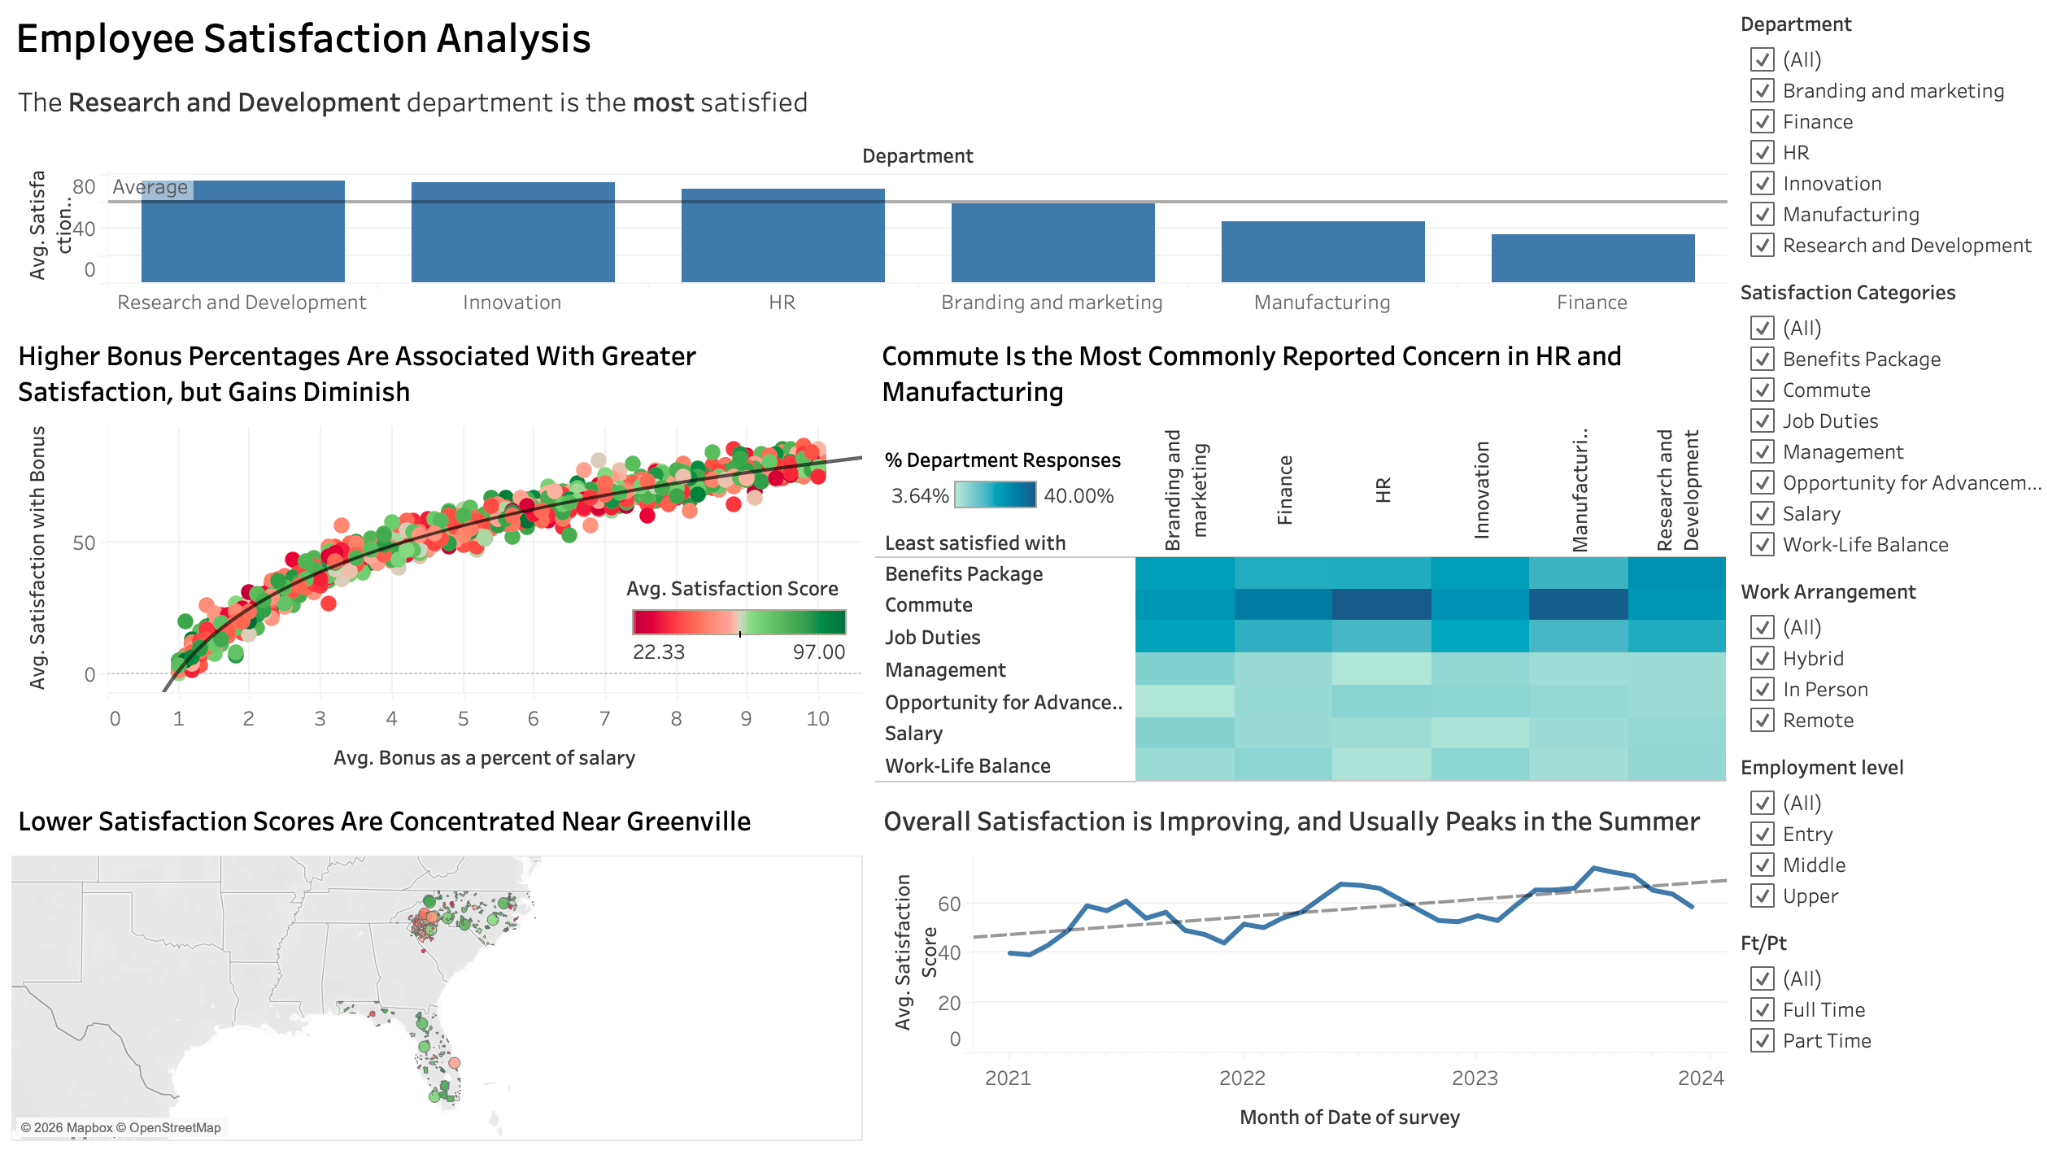

What the dashboard file says about the page in this screenshot:
{"tool":"tableau","page":{"name":"Employee Satisfaction Analysis","canvas":[1280,720],"ordinal":1},"visuals":[{"type":"title","box":[8,8,1063,41]},{"type":"filter","title":"Higher Bonus % Raises Satisfaction, But Returns Diminish Over Time","param":"[federated.0tje9i91w3glhr13yo1ke0m3i0n6].[none:Department:nk]","box":[1071,8,201,165]},{"type":"worksheet","title":"Least Satisfied Employees by Department","mark":"Automatic","rows":["Satisfaction Score"],"cols":["Department"],"box":[8,49,1063,156]},{"type":"filter","title":"Employees Near the Plant Report High Dissatisfaction Across All Areas Except Salary","param":"[federated.0tje9i91w3glhr13yo1ke0m3i0n6].[none:Least satisfied with:nk]","box":[1071,173,201,184]},{"type":"worksheet","title":"Higher Bonus % Raises Satisfaction, But Returns Diminish Over Time","mark":"Automatic","rows":["Satisfaction with Bonus"],"cols":["Bonus as a percent of salary"],"box":[8,205,531.5,286]},{"type":"worksheet","title":"The Manufacturing department is least satisfied with their commute","mark":"Automatic","rows":["Least satisfied with"],"cols":["Department"],"box":[539,205,532,286]},{"type":"legend","title":"The Manufacturing department is least satisfied with their commute","param":"[federated.0tje9i91w3glhr13yo1ke0m3i0n6].[pcto:cnt:Satisfaction_08B08D57A3D94CD6","box":[549,280,146,49]},{"type":"filter","title":"Employees Near the Plant Report High Dissatisfaction Across All Areas Except Salary","param":"[federated.0tje9i91w3glhr13yo1ke0m3i0n6].[none:Work Arrangement:nk]","box":[1071,357,201,108]},{"type":"legend","title":"Employees Near the Plant Report High Dissatisfaction Across All Areas Except Salary","param":"[federated.0tje9i91w3glhr13yo1ke0m3i0n6].[avg:Satisfaction Score:qk]","box":[390,359,140,53]},{"type":"filter","title":"Higher Bonus % Raises Satisfaction, But Returns Diminish Over Time","param":"[federated.0tje9i91w3glhr13yo1ke0m3i0n6].[none:Employment level:nk]","box":[1071,465,201,108]},{"type":"worksheet","title":"Employees Near the Plant Report High Dissatisfaction Across All Areas Except Salary","mark":"Automatic","box":[8,491,532,221]},{"type":"worksheet","title":"Overall satisfaction is improving and usually peaks in the Summer","mark":"Automatic","rows":["Satisfaction Score"],"cols":["Date of survey"],"box":[540,491,531,221]},{"type":"filter","title":"Employees Near the Plant Report High Dissatisfaction Across All Areas Except Salary","param":"[federated.0tje9i91w3glhr13yo1ke0m3i0n6].[none:FT/PT:nk]","box":[1071,573,201,89]}]}

Visuals, with their boxes in screenshot pixels (x1, y1, x2, y2), scaled from the page's 1280x720 canvas onto the 2047x1158 screenshot:
title: 13 13 1713 79
"Higher Bonus % Raises Satisfaction, But Returns Diminish Over Time" filter: 1713 13 2034 278
"Least Satisfied Employees by Department" worksheet: 13 79 1713 330
"Employees Near the Plant Report High Dissatisfaction Across All Areas Except Salary" filter: 1713 278 2034 574
"Higher Bonus % Raises Satisfaction, But Returns Diminish Over Time" worksheet: 13 330 863 790
"The Manufacturing department is least satisfied with their commute" worksheet: 862 330 1713 790
"The Manufacturing department is least satisfied with their commute" legend: 878 450 1111 529
"Employees Near the Plant Report High Dissatisfaction Across All Areas Except Salary" filter: 1713 574 2034 748
"Employees Near the Plant Report High Dissatisfaction Across All Areas Except Salary" legend: 624 577 848 663
"Higher Bonus % Raises Satisfaction, But Returns Diminish Over Time" filter: 1713 748 2034 922
"Employees Near the Plant Report High Dissatisfaction Across All Areas Except Salary" worksheet: 13 790 864 1145
"Overall satisfaction is improving and usually peaks in the Summer" worksheet: 864 790 1713 1145
"Employees Near the Plant Report High Dissatisfaction Across All Areas Except Salary" filter: 1713 922 2034 1065
